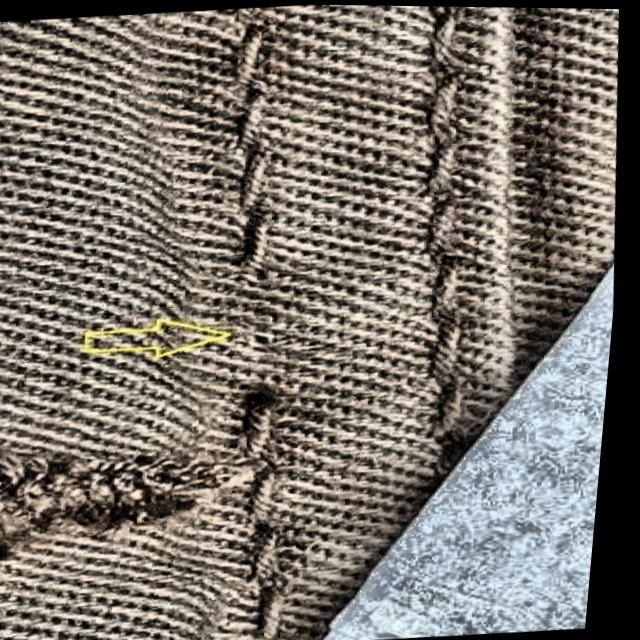Stitch: (203, 194, 405, 447)
